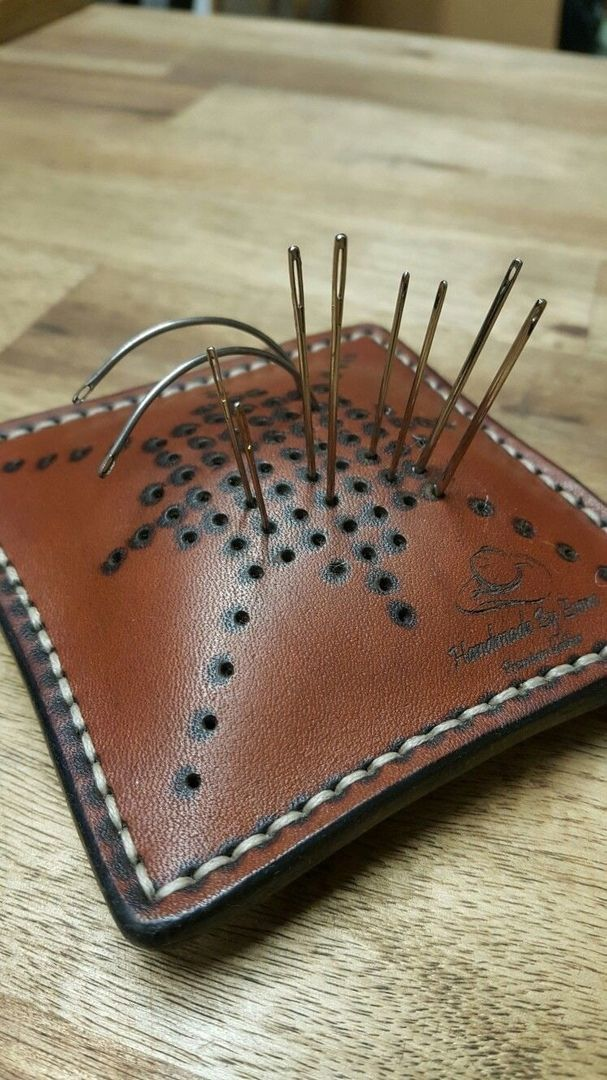cuero: (1, 323, 607, 947)
